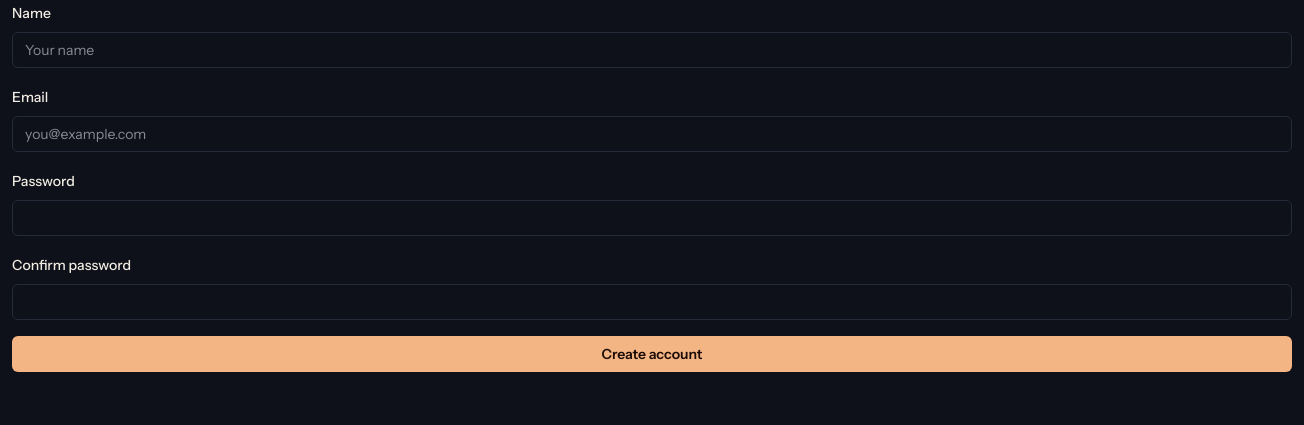
Test: RegisterForm › surfaces the server error
The width and height of the screenshot is (1304, 425).
Type "Ada" into the field labelled "Name" at (652,50), box [12,32,1292,68]
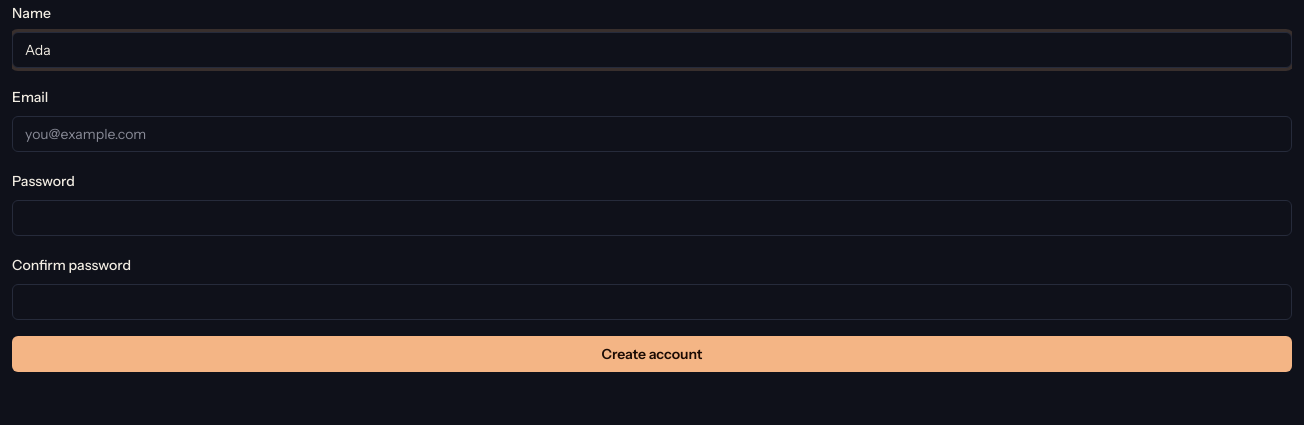
Type "ada@example.com" into the field labelled "Email" at (652,134), box [12,116,1292,152]
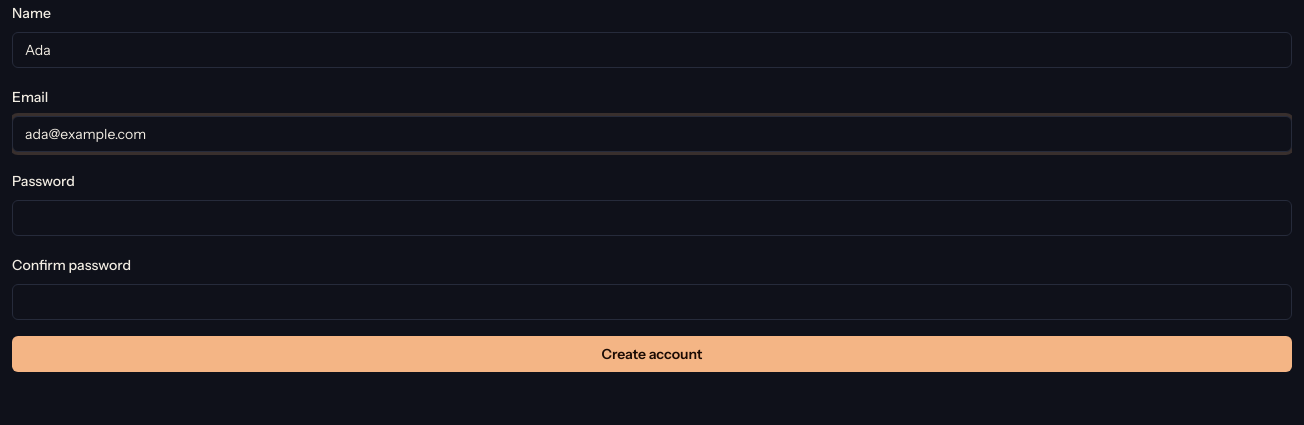
Type "longenough1" into the password field labelled "Password" at (652,218), box [12,200,1292,236]
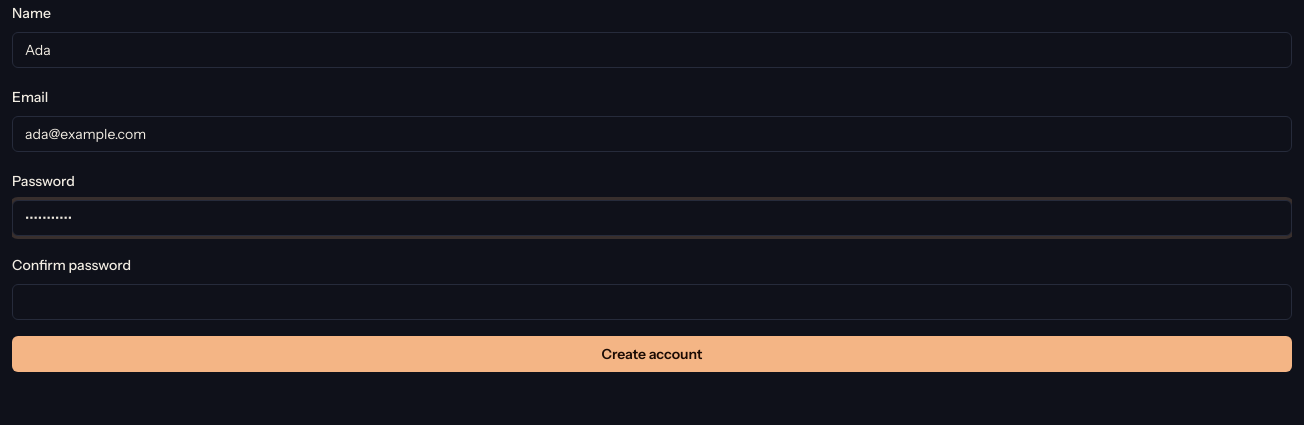
Type "longenough1" into the password field labelled "Confirm password" at (652,302), box [12,284,1292,320]
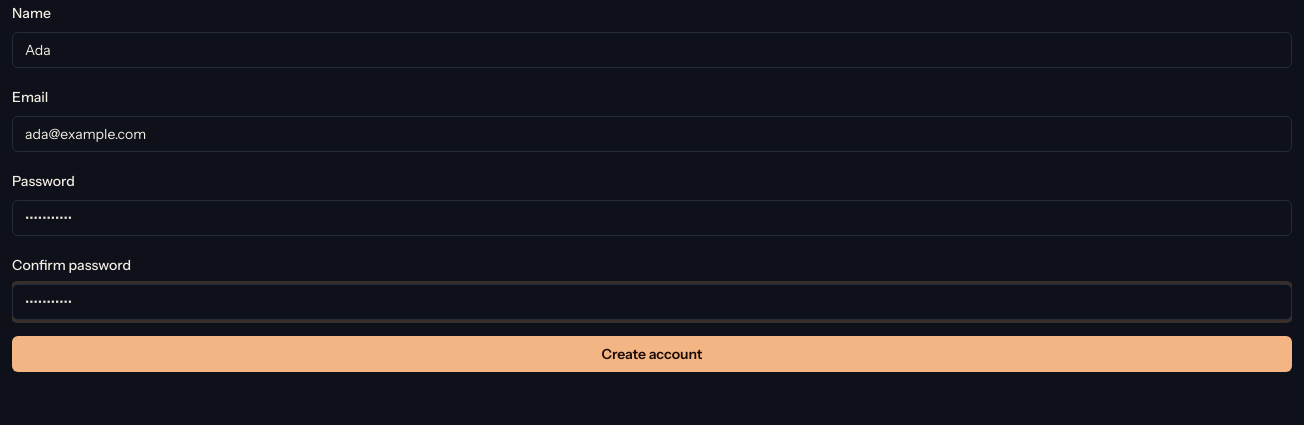
Click the button "Create account" at (652,354), box [12,336,1292,372]
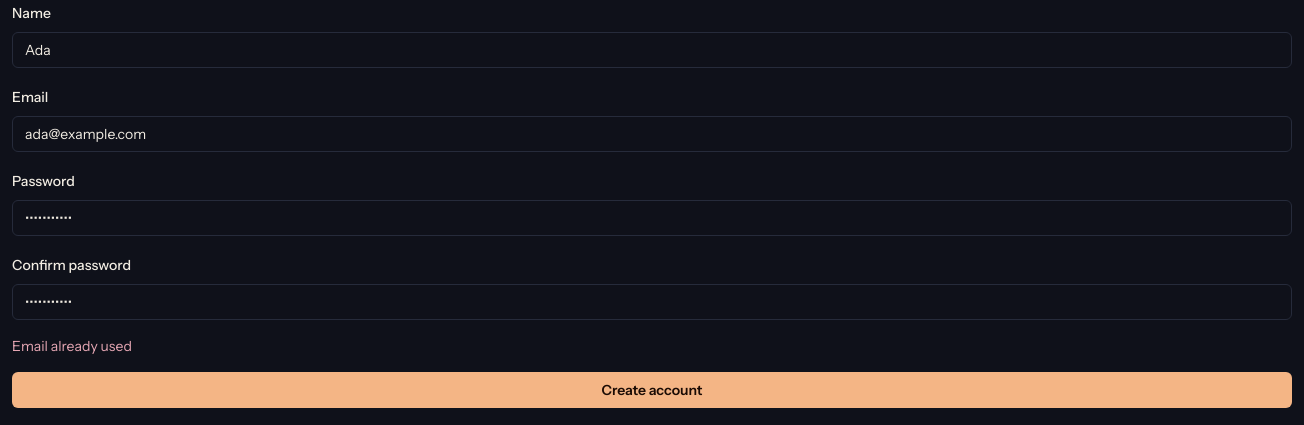
Now the text "Email already used" is shown, box [12,337,132,355]
